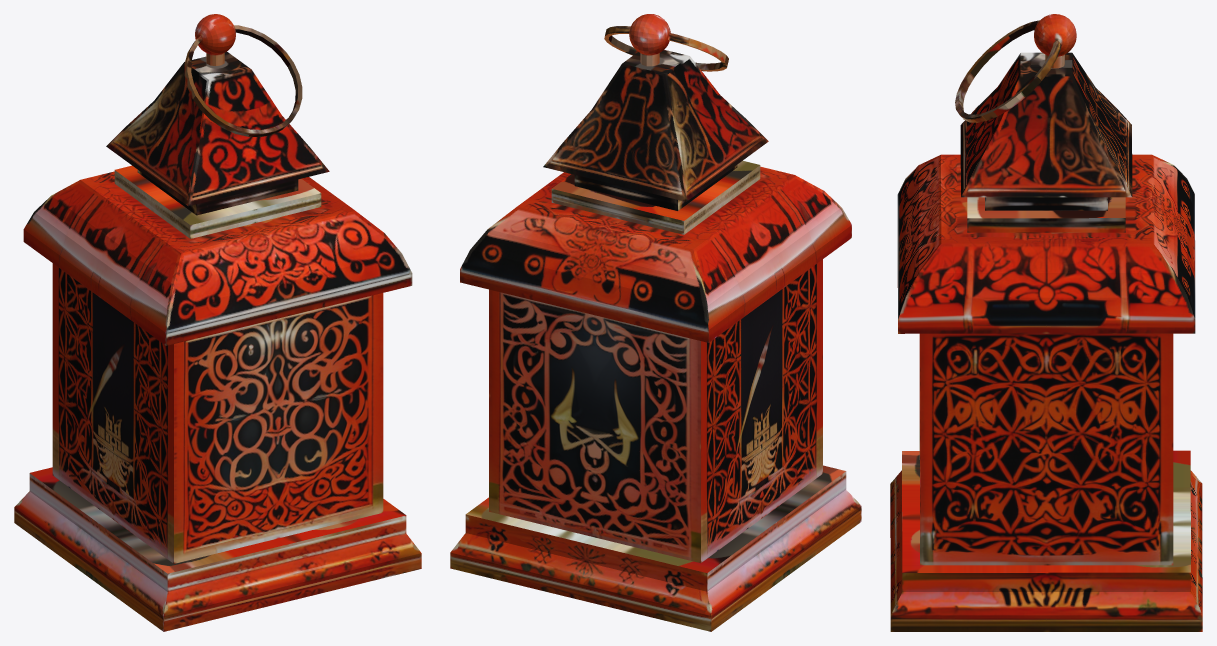
The picture shows the model from 3 angles, left to right: view 1: azimuth 30°, elevation 25°; view 2: azimuth 150°, elevation 25°; view 3: azimuth 270°, elevation 25°; orthographic projection. The views are drawn at different scales.
Parts seen in each view (by area): view 1: textured.obj; view 2: textured.obj; view 3: textured.obj.
Part boxes in pixels (bbox=[...]): textured.obj: bbox=[14, 14, 421, 631]; textured.obj: bbox=[450, 14, 861, 631]; textured.obj: bbox=[890, 14, 1202, 631].
Size of the model in its own units: 1.03 by 2 by 1.03.
